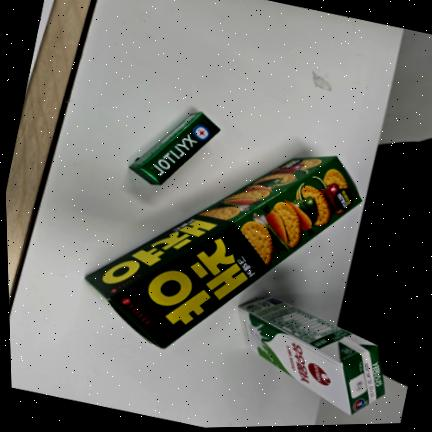cracker_vege: (85, 157, 361, 349)
gum_green: (129, 112, 220, 185)
milk_green: (239, 296, 385, 414)
